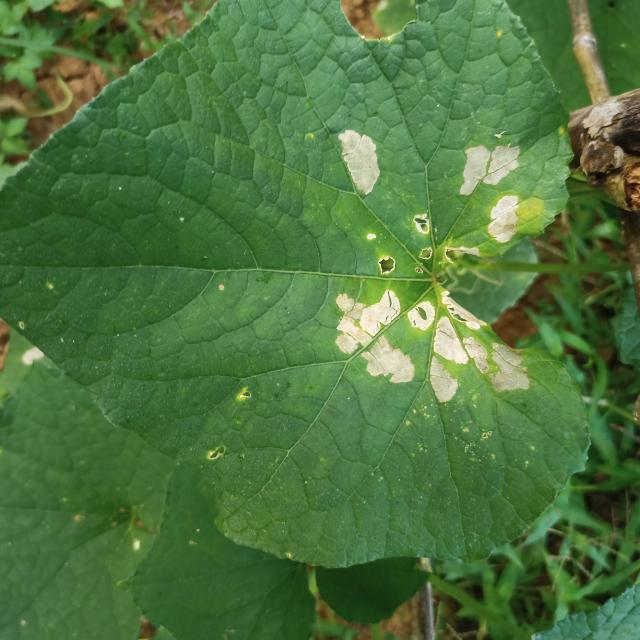disease_cucumber: (327, 282, 532, 406), (457, 138, 522, 198), (336, 125, 382, 198), (487, 194, 518, 245), (408, 212, 436, 262), (376, 254, 398, 274)
